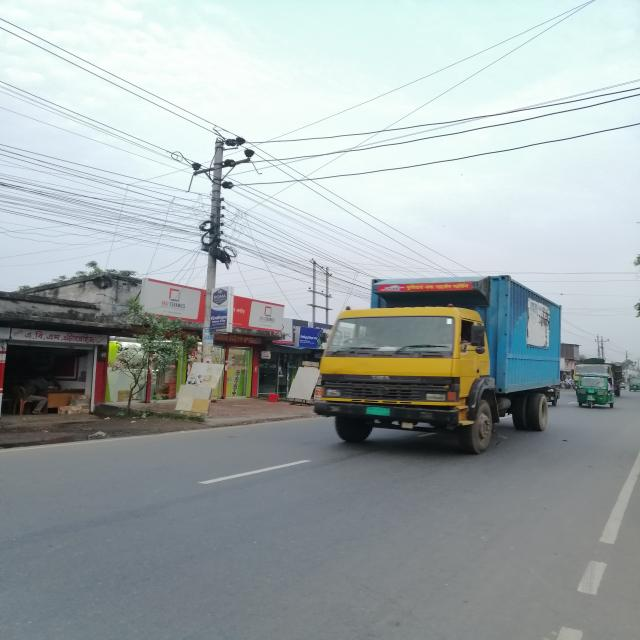CNG: (572, 372, 619, 422)
Truck: (297, 274, 569, 459)
